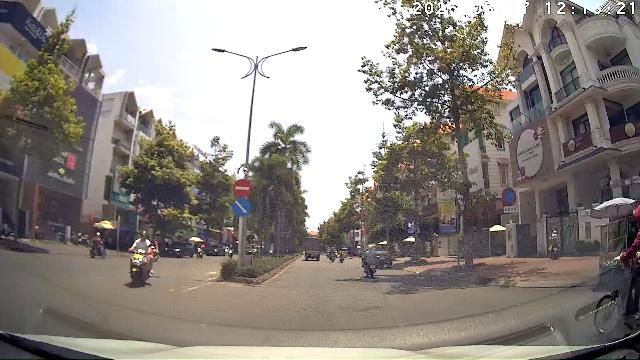102-cam-di-nguoc-chieu: (233, 179, 251, 197)
131a-cam-do-xe: (502, 187, 516, 205)
302a-huong-phai-di-vong-chuong-ngai-vat-1: (232, 198, 252, 216)
